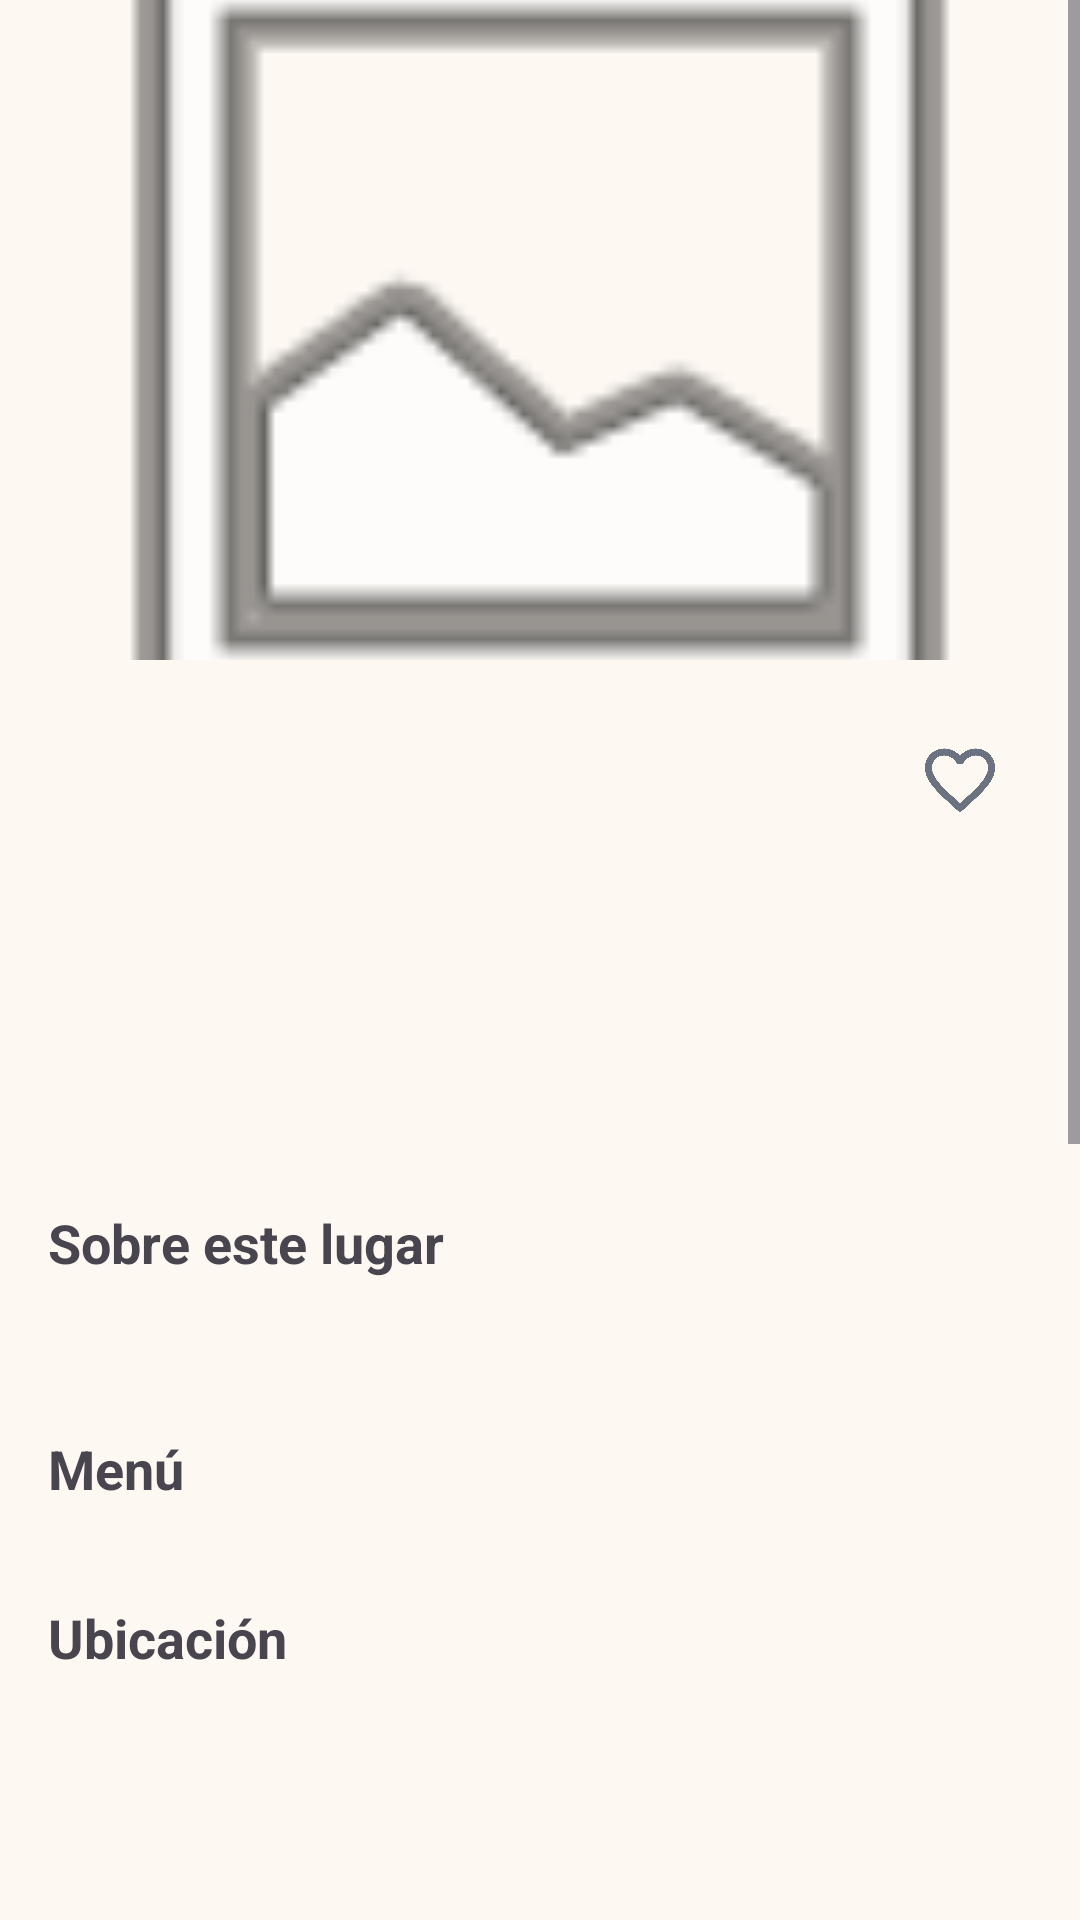

Icon bounding boxes for this 1080 × 1920 phone screenshot, format [left=x1, top=y1, right=x2, bottom=y2]:
Marcar como favorito: [left=925, top=748, right=995, bottom=812]
